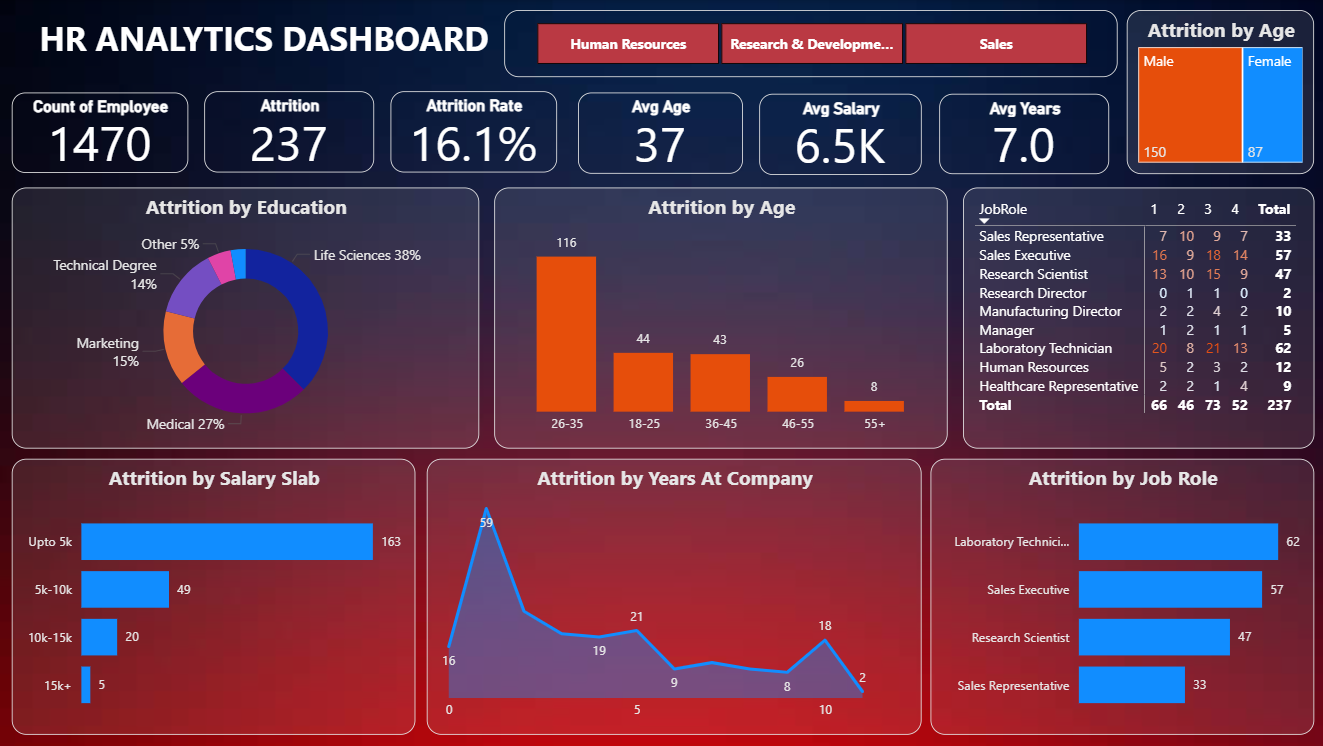

This screenshot's page, from the dashboard's own definition file:
{"tool":"powerbi","page":{"name":"Page 1","canvas":[1280,720],"ordinal":0},"visuals":[{"type":"card","title":"Count of Employee","fields":{"Values":["CountNonNull(HR_Analytics.EmpID)"]},"box":[13.3,89.3,170.1,79.6],"z":0},{"type":"card","title":"Avg Age","fields":{"Values":["Avg(HR_Analytics.Age)"]},"box":[559.8,89.3,159.3,78.4],"z":1000},{"type":"card","title":"Attrition Rate","fields":{"Values":["HR_Analytics.AttritionRate"]},"box":[378.8,88.1,160.5,78.4],"z":2000},{"type":"card","title":"Attrition","fields":{"Values":["Sum(HR_Analytics.AttritionCount)"]},"box":[199.1,88.1,164.1,78.4],"z":3000},{"type":"card","title":"Avg Years","fields":{"Values":["Avg(HR_Analytics.YearsAtCompany)"]},"box":[908.4,90.5,164.1,77.2],"z":4000},{"type":"card","title":"Avg Salary","fields":{"Values":["Avg(HR_Analytics.MonthlyIncome)"]},"box":[734.7,90.5,156.8,78.4],"z":5000},{"type":"donutChart","title":"Attrition by Education","fields":{"Category":["HR_Analytics.EducationField"],"Y":["Sum(HR_Analytics.AttritionCount)"]},"box":[13.3,181,451.2,252.1],"z":6000},{"type":"columnChart","title":"Attrition by Age","fields":{"Category":["HR_Analytics.AgeGroup"],"Y":["Sum(HR_Analytics.AttritionCount)"]},"box":[479,181,437.9,252.1],"z":7000},{"type":"pivotTable","fields":{"Rows":["HR_Analytics.JobRole"],"Columns":["HR_Analytics.JobSatisfaction"],"Values":["Sum(HR_Analytics.AttritionCount)"]},"box":[931.4,181,339,252.1],"z":8000},{"type":"barChart","title":"Attrition by Salary Slab","fields":{"Category":["HR_Analytics.SalarySlab"],"Y":["Sum(HR_Analytics.AttritionCount)"]},"box":[13.3,442.8,389.7,266.6],"z":9000},{"type":"barChart","title":"Attrition by Job Role","fields":{"Category":["HR_Analytics.JobRole"],"Y":["Sum(HR_Analytics.AttritionCount)"]},"box":[900,442.8,370.4,266.6],"z":10000},{"type":"areaChart","title":"Attrition by Years At Company","fields":{"Category":["HR_Analytics.YearsAtCompany"],"Y":["Sum(HR_Analytics.AttritionCount)"]},"box":[413.8,442.8,477.8,266.6],"z":11000},{"type":"treemap","title":"Attrition by Age","fields":{"Group":["HR_Analytics.Gender"],"Values":["Sum(HR_Analytics.AttritionCount)"]},"box":[1089.4,9.7,181,158],"z":12000},{"type":"slicer","fields":{"Values":["HR_Analytics.Department"]},"box":[488.6,9.7,592.4,65.1],"z":13000},{"type":"textbox","box":[35,9.7,470.5,56.7],"z":14000}]}

Visuals, with their boxes in screenshot pixels (x1, y1, x2, y2), scaled from the page's 1280x720 canvas onto the 1323x746 screenshot:
"Count of Employee" card: 14 93 190 175
"Avg Age" card: 579 93 743 174
"Attrition Rate" card: 392 91 557 173
"Attrition" card: 206 91 375 173
"Avg Years" card: 939 94 1109 174
"Avg Salary" card: 759 94 921 175
"Attrition by Education" donutChart: 14 188 480 449
"Attrition by Age" columnChart: 495 188 948 449
pivotTable - HR_Analytics.JobRole x HR_Analytics.JobSatisfaction: 963 188 1313 449
"Attrition by Salary Slab" barChart: 14 459 417 735
"Attrition by Job Role" barChart: 930 459 1313 735
"Attrition by Years At Company" areaChart: 428 459 922 735
"Attrition by Age" treemap: 1126 10 1313 174
slicer - HR_Analytics.Department: 505 10 1117 78
textbox: 36 10 522 69
